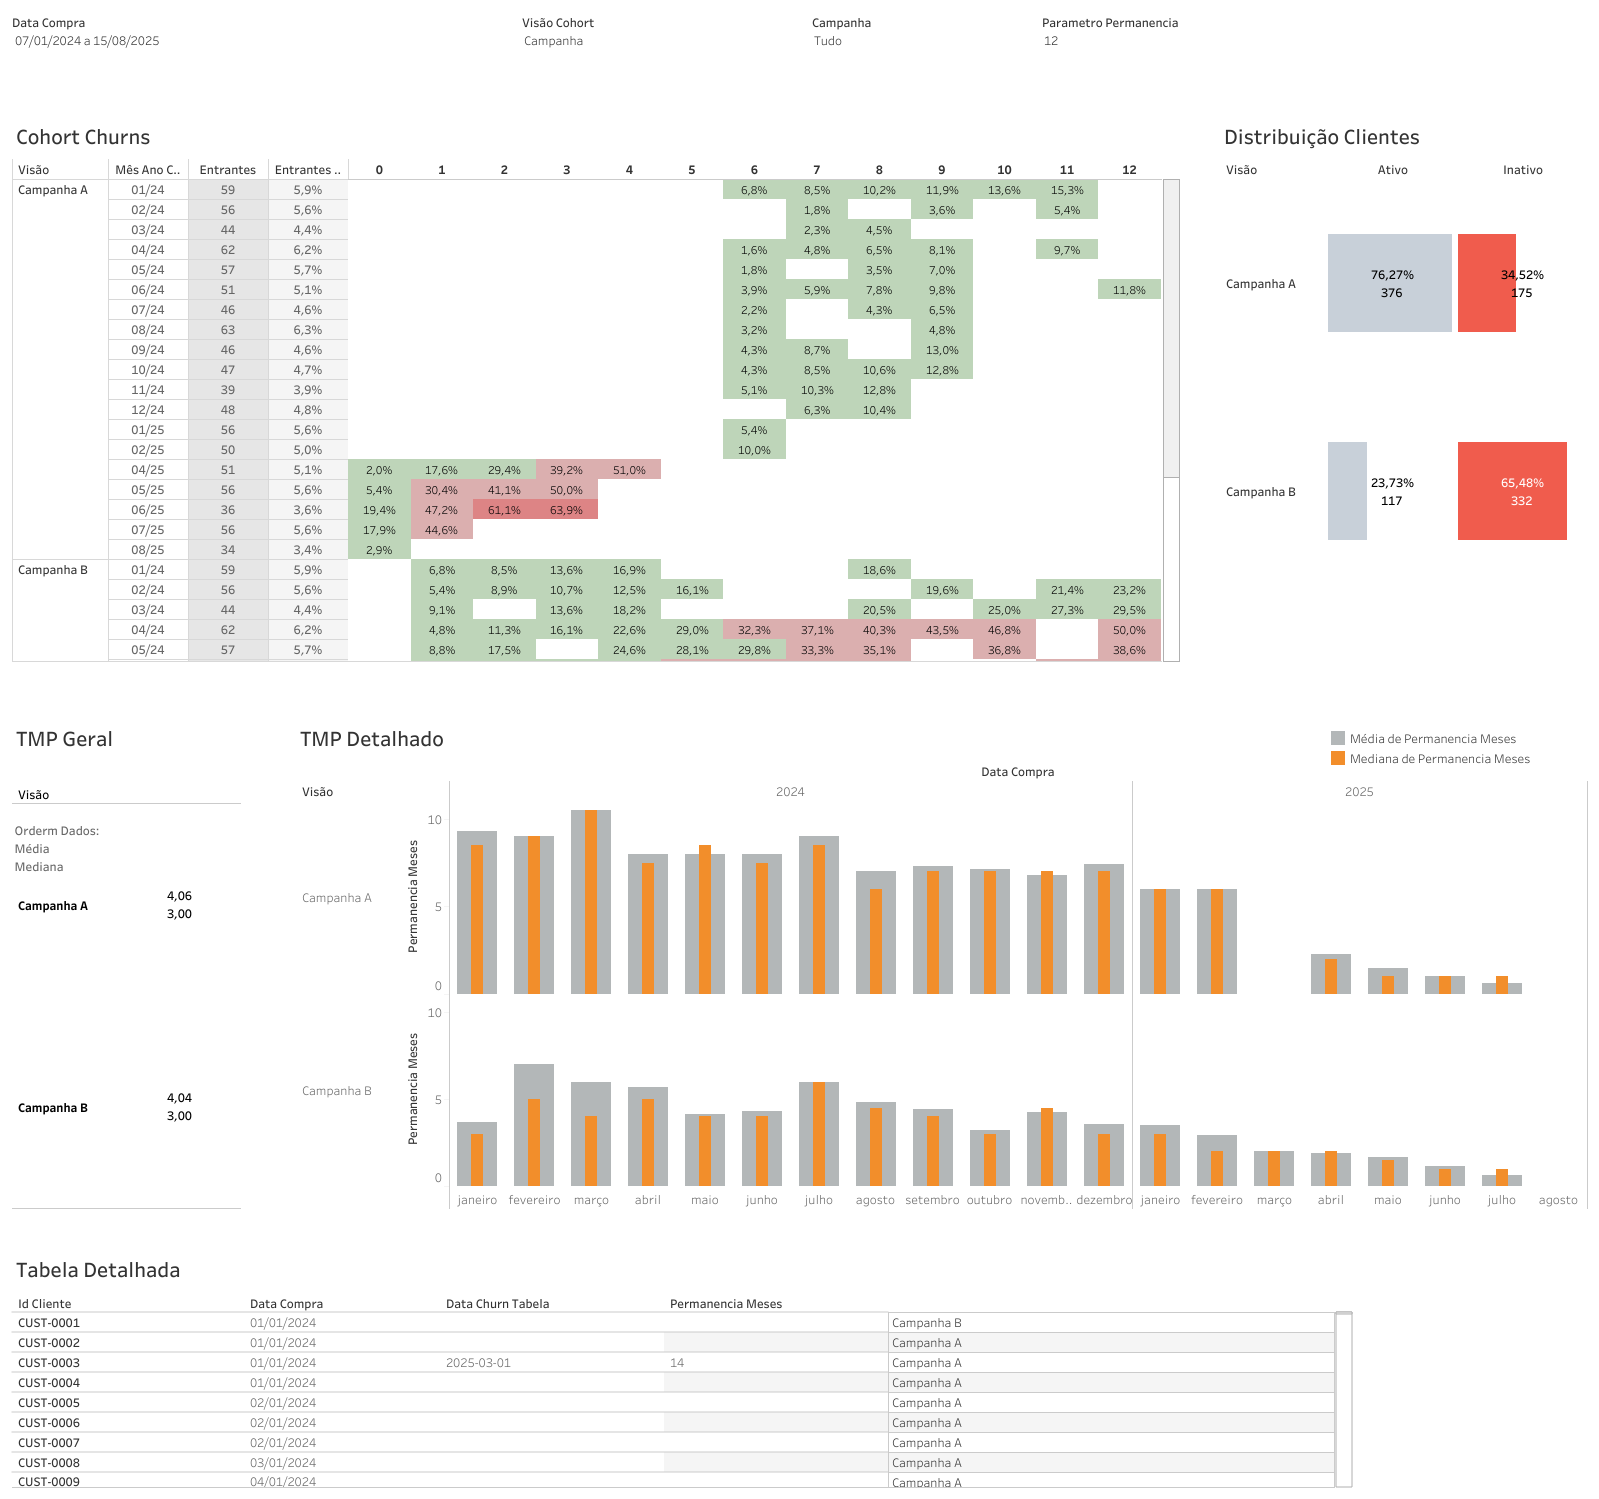

The dashboard page shown, as its layout file describes it:
{"tool":"tableau","page":{"name":"Painel","canvas":[1600,1500],"ordinal":0},"visuals":[{"type":"filter","title":"Cohort Churns","param":"[federated.1jg5xo313vnkno10xeusn05cs98l].[none:data_compra:qk]","box":[8,8,445,71.7]},{"type":"blank","box":[453,8,65,71.7]},{"type":"parameter","param":"[Parameters].[Parâmetro 1]","box":[518,8,202,71.7]},{"type":"blank","box":[720,8,88,71.7]},{"type":"filter","title":"Cohort Churns","param":"[federated.1jg5xo313vnkno10xeusn05cs98l].[none:campanha:nk]","box":[808,8,168,71.7]},{"type":"blank","box":[976,8,62,71.7]},{"type":"parameter","param":"[Parameters].[Parâmetro 2]","box":[1038,8,516,71.7]},{"type":"blank","box":[1554,8,38,71.7]},{"type":"blank","box":[8,79.7,1584,32.3]},{"type":"worksheet","title":"Cohort Churns","mark":"Square","rows":["Calculation_1052716462848020481","mês_ano_compra","Calculation_558164928986787842","Calculation_558164928999727113"],"cols":["Calculation_602919450343936000"],"box":[8,112,1176,554.3]},{"type":"blank","box":[1184,112,32,554.3]},{"type":"worksheet","title":"Distribuição Clientes","mark":"Bar","rows":["Calculation_1052716462848020481"],"cols":["ativo"],"box":[1216,112,376,487.2]},{"type":"blank","box":[1216,599.2,376,67.1]},{"type":"blank","box":[8,666.3,1584,47.7]},{"type":"worksheet","title":"TMP Geral","mark":"Automatic","rows":["Calculation_1052716462848020481"],"box":[8,714,237,499]},{"type":"blank","box":[245,714,47,499]},{"type":"worksheet","title":"TMP Detalhado","mark":"Bar","rows":["Calculation_1052716462848020481","permanencia_meses","permanencia_meses"],"cols":["data_compra","data_compra"],"box":[292,714,1300,499]},{"type":"legend","title":"TMP Detalhado","param":"[federated.1jg5xo313vnkno10xeusn05cs98l].[:Measure Names]","box":[1328,728,253,46]},{"type":"text","box":[12,810,153,75]},{"type":"blank","box":[8,1213,1584,32]},{"type":"worksheet","title":"Tabela Detalhada","mark":"Automatic","rows":["id_cliente","data_compra","Calculation_602919450346696705","permanencia_meses"],"box":[8,1245,1349,247]},{"type":"blank","box":[1357,1245,235,247]}]}

Visuals, with their boxes in screenshot pixels (x1, y1, x2, y2), scaled from the page's 1600x1500 canvas onto the 1599x1499 screenshot:
"Cohort Churns" filter: detection(8, 8, 453, 80)
blank: detection(453, 8, 518, 80)
parameter: detection(518, 8, 720, 80)
blank: detection(720, 8, 807, 80)
"Cohort Churns" filter: detection(807, 8, 975, 80)
blank: detection(975, 8, 1037, 80)
parameter: detection(1037, 8, 1553, 80)
blank: detection(1553, 8, 1591, 80)
blank: detection(8, 80, 1591, 112)
"Cohort Churns" worksheet (Square marks): detection(8, 112, 1183, 666)
blank: detection(1183, 112, 1215, 666)
"Distribuição Clientes" worksheet (Bar marks): detection(1215, 112, 1591, 599)
blank: detection(1215, 599, 1591, 666)
blank: detection(8, 666, 1591, 714)
"TMP Geral" worksheet: detection(8, 714, 245, 1212)
blank: detection(245, 714, 292, 1212)
"TMP Detalhado" worksheet (Bar marks): detection(292, 714, 1591, 1212)
"TMP Detalhado" legend: detection(1327, 728, 1580, 773)
text: detection(12, 809, 165, 884)
blank: detection(8, 1212, 1591, 1244)
"Tabela Detalhada" worksheet: detection(8, 1244, 1356, 1491)
blank: detection(1356, 1244, 1591, 1491)
